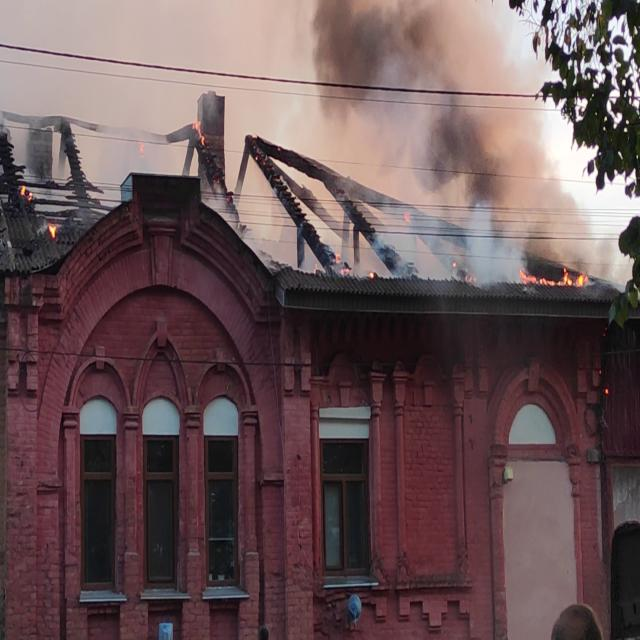fire: (512, 255, 586, 295)
smoke: (313, 0, 505, 210)
